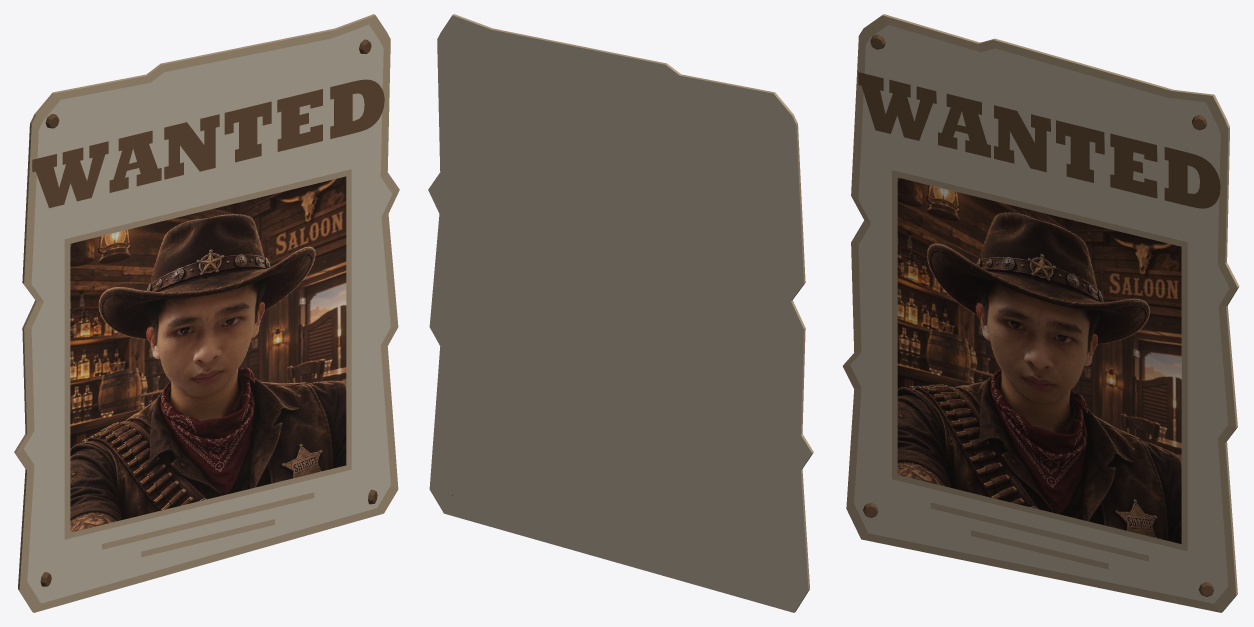
The model's file is Wanted_Poster.fbx.
3 renders of one model, left to right at view 1: azimuth 30°, elevation 25°; view 2: azimuth 150°, elevation 25°; view 3: azimuth 330°, elevation 25°, orthographic. The views are drawn at different scales.
Visible parts, largest first — view 1: GEO-Parchment, GEO-Portrait-CHANGE_IMAGE, GEO-WANTED_Lettering, GEO-Printed_Portrait_Frame; view 2: GEO-Parchment; view 3: GEO-Parchment, GEO-Portrait-CHANGE_IMAGE, GEO-WANTED_Lettering, GEO-Printed_Portrait_Frame.
Part boxes in pixels (bbox=[...]): GEO-Parchment: bbox=[14, 14, 399, 612]; GEO-Portrait-CHANGE_IMAGE: bbox=[70, 176, 346, 532]; GEO-WANTED_Lettering: bbox=[32, 79, 384, 208]; GEO-Printed_Portrait_Frame: bbox=[64, 169, 351, 539]; GEO-Parchment: bbox=[428, 14, 813, 612]; GEO-Parchment: bbox=[842, 14, 1239, 612]; GEO-Portrait-CHANGE_IMAGE: bbox=[897, 177, 1181, 543]; GEO-WANTED_Lettering: bbox=[858, 72, 1220, 208]; GEO-Printed_Portrait_Frame: bbox=[892, 170, 1187, 551].
Bounding box in the file's own units: 42 × 54 × 1.17.
